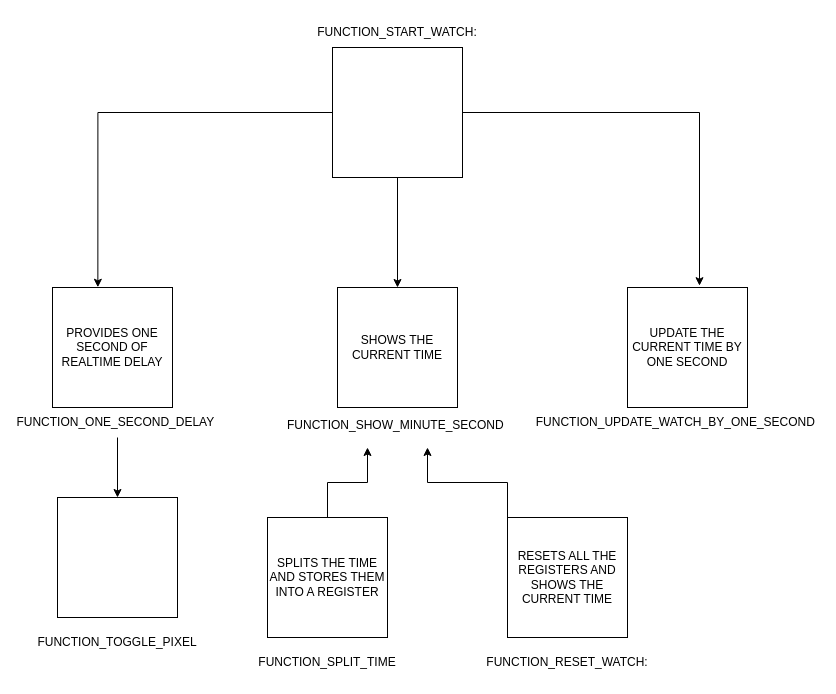
Some shapes in this 836 by 694 pixel diagram are drawn without their labels. The centre of each missing label's shape, as x and y in pixels:
TOGGLES THE PIXEL COLOR OF THE SCREEN: [117,557]
WHEN NO OTHER VALID KEY IS PRESSED THIS FUNCTION WILL CALL THE FUNCTIONS BELOW: [397,112]
